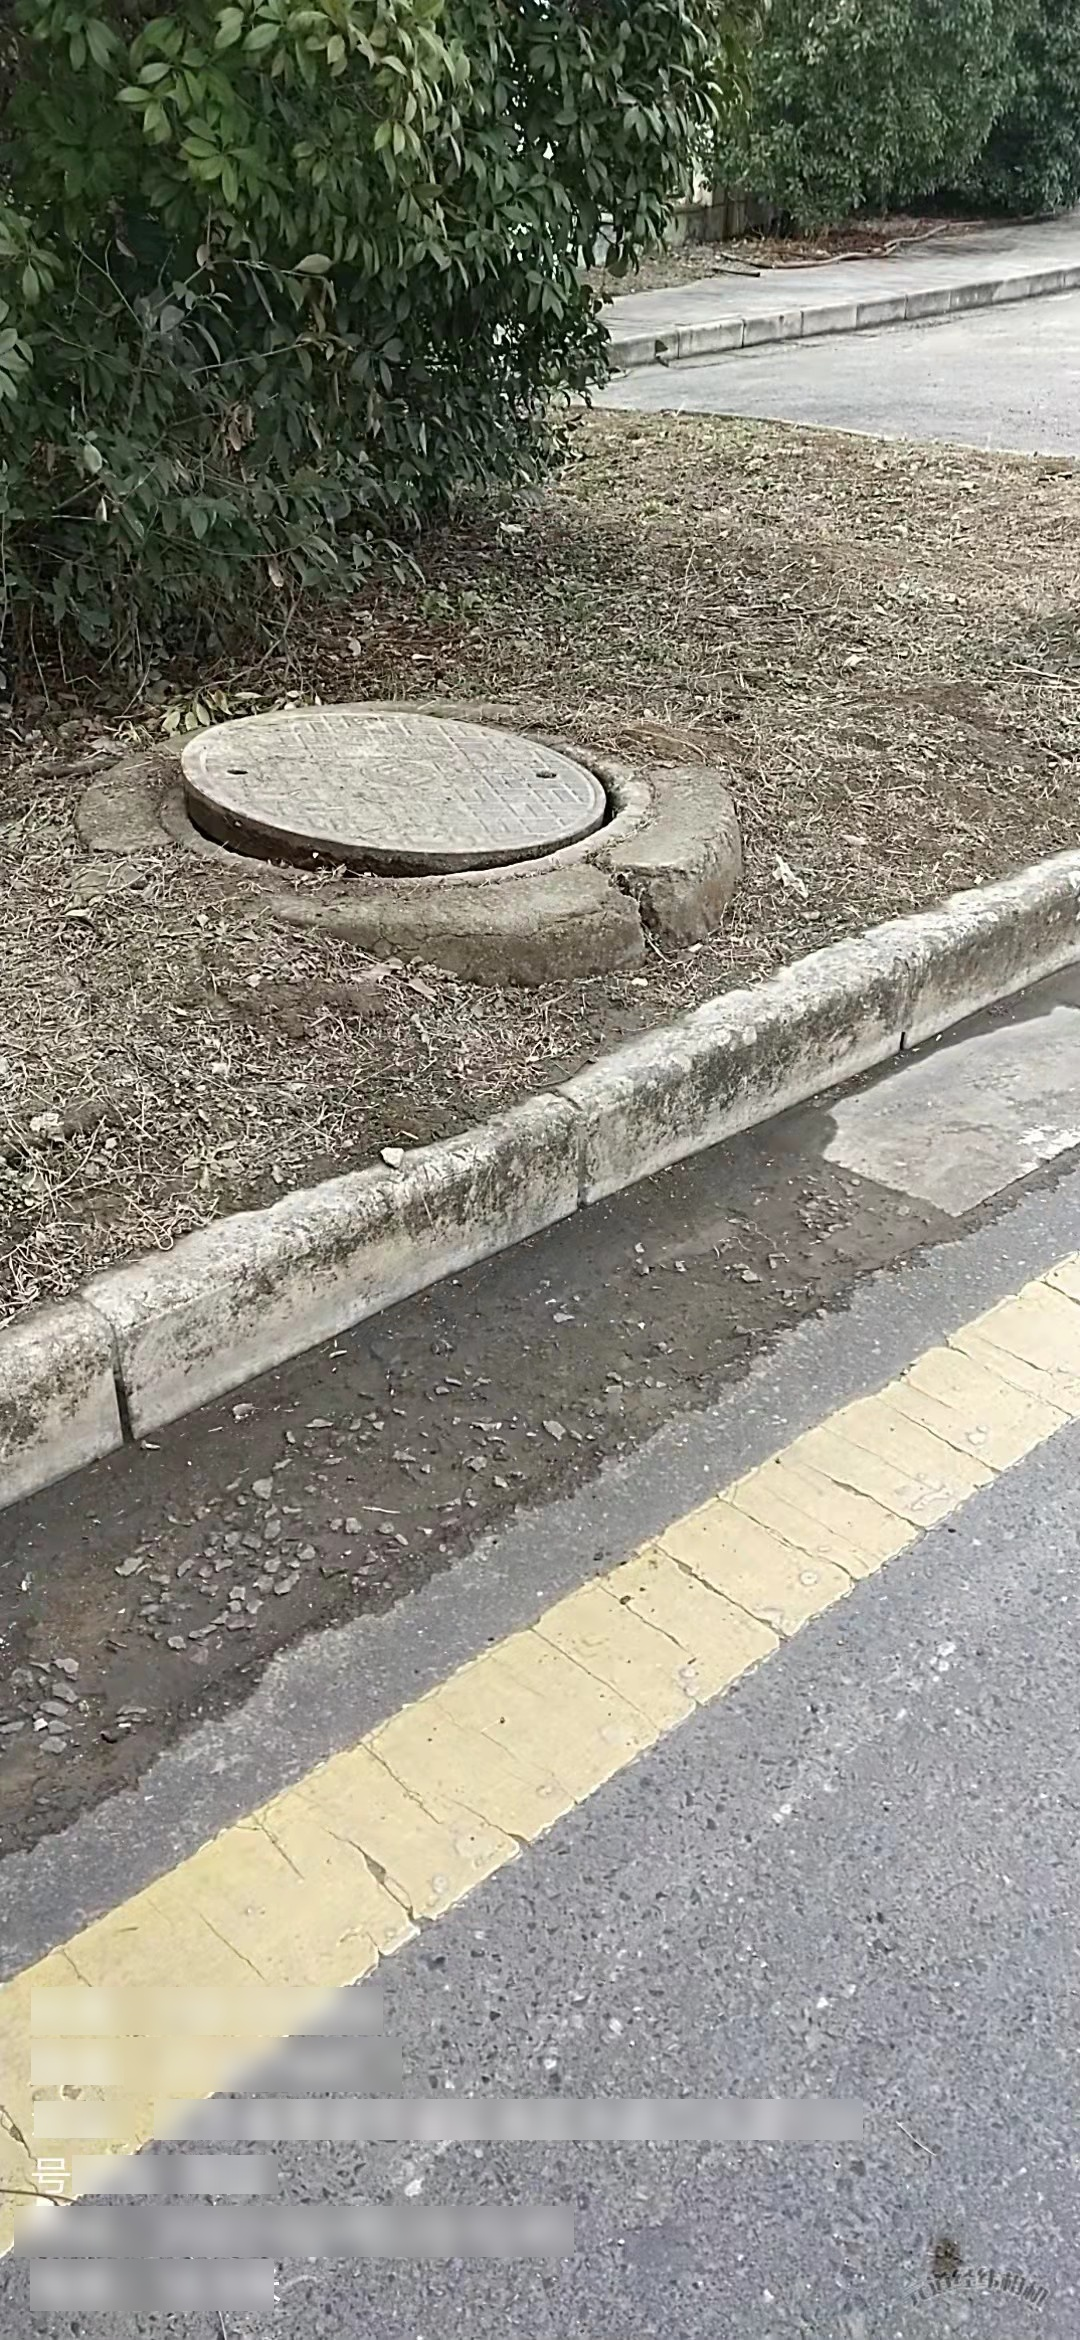uncovered: (142, 701, 646, 894)
